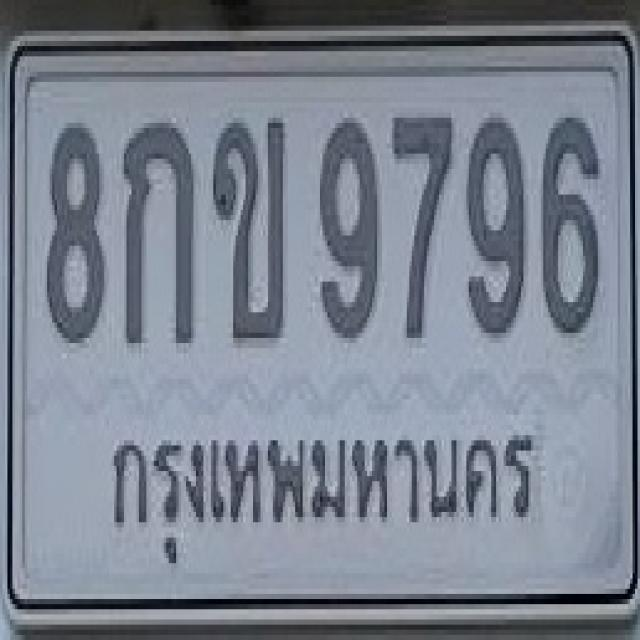license_plate: (3, 31, 640, 627)
